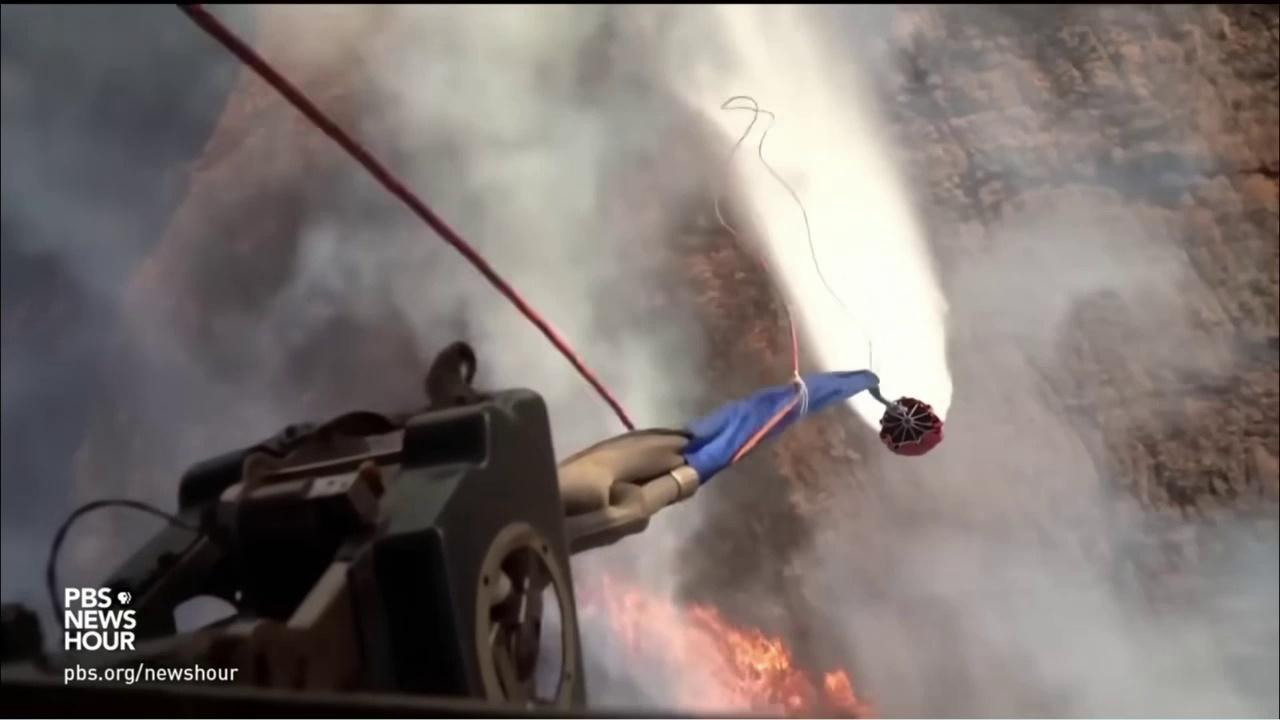fire: (573, 568, 878, 720)
smoke: (3, 4, 1278, 720)
